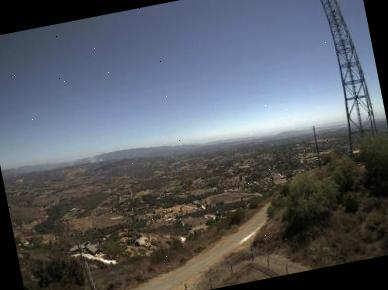smoke: (45, 147, 111, 173)
